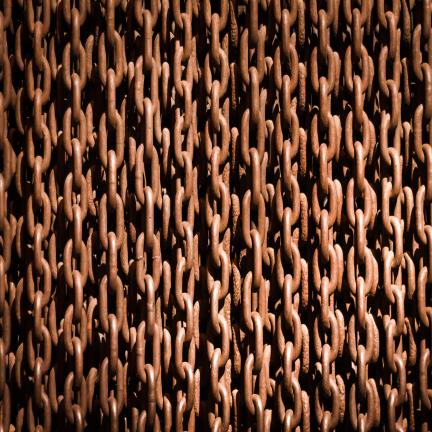karat: (1, 0, 432, 432)
